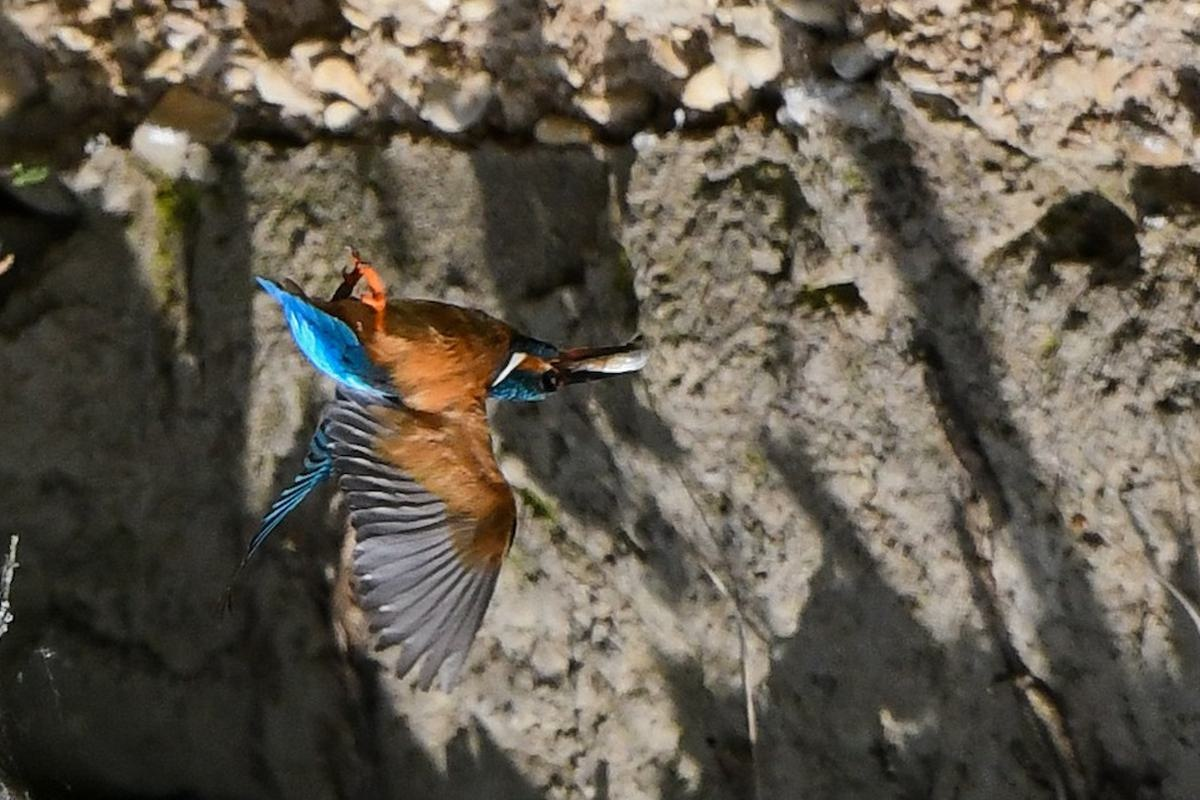kingfisher: (252, 255, 655, 670)
